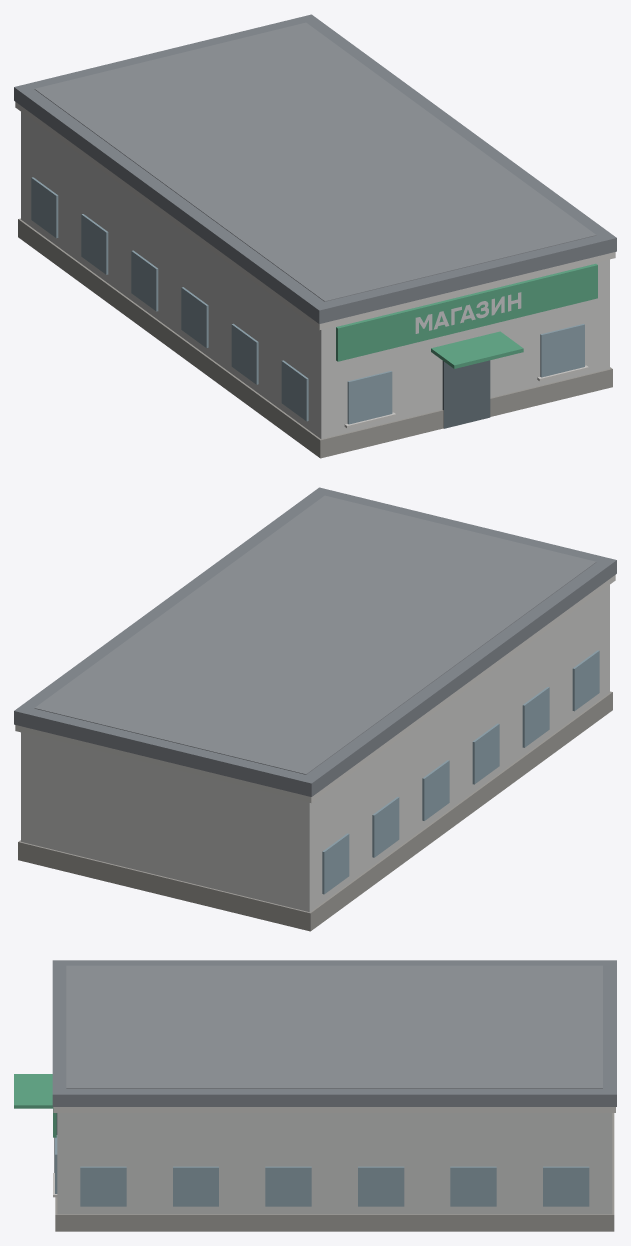
File: fuel_shop.glb
3 views of the same model, one above another, from view 1: azimuth 30°, elevation 25°; view 2: azimuth 150°, elevation 25°; view 3: azimuth 270°, elevation 25° (orthographic). The views are drawn at different scales.
Parts seen in each view (by area): view 1: fuel_shop; view 2: fuel_shop; view 3: fuel_shop.
Boxes of the visible parts, <box> form: fuel_shop: <box>14,14,616,458</box>; fuel_shop: <box>14,487,616,931</box>; fuel_shop: <box>14,960,616,1231</box>.
Bounding box in the file's own units: 10.3 × 4.97 × 19.55.
